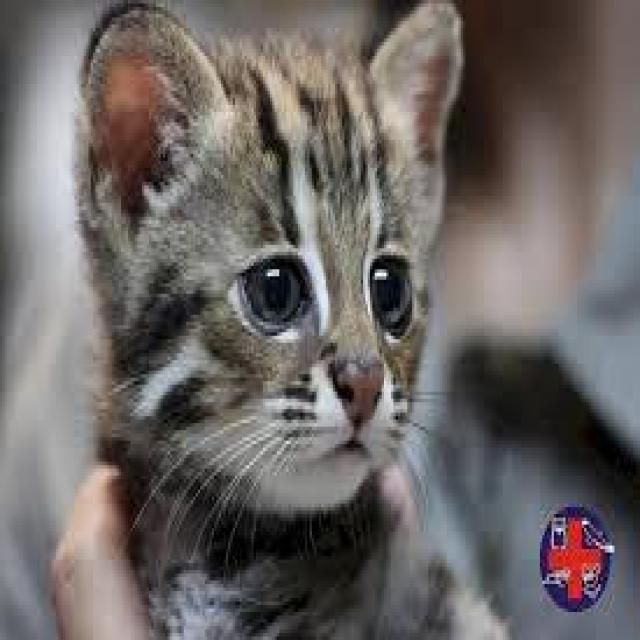leopard: (112, 11, 517, 576)
